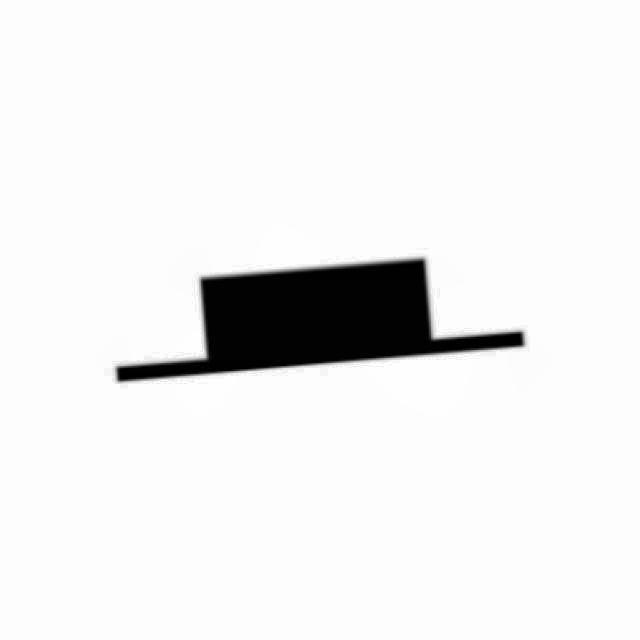Half-rest: (94, 246, 546, 388)
